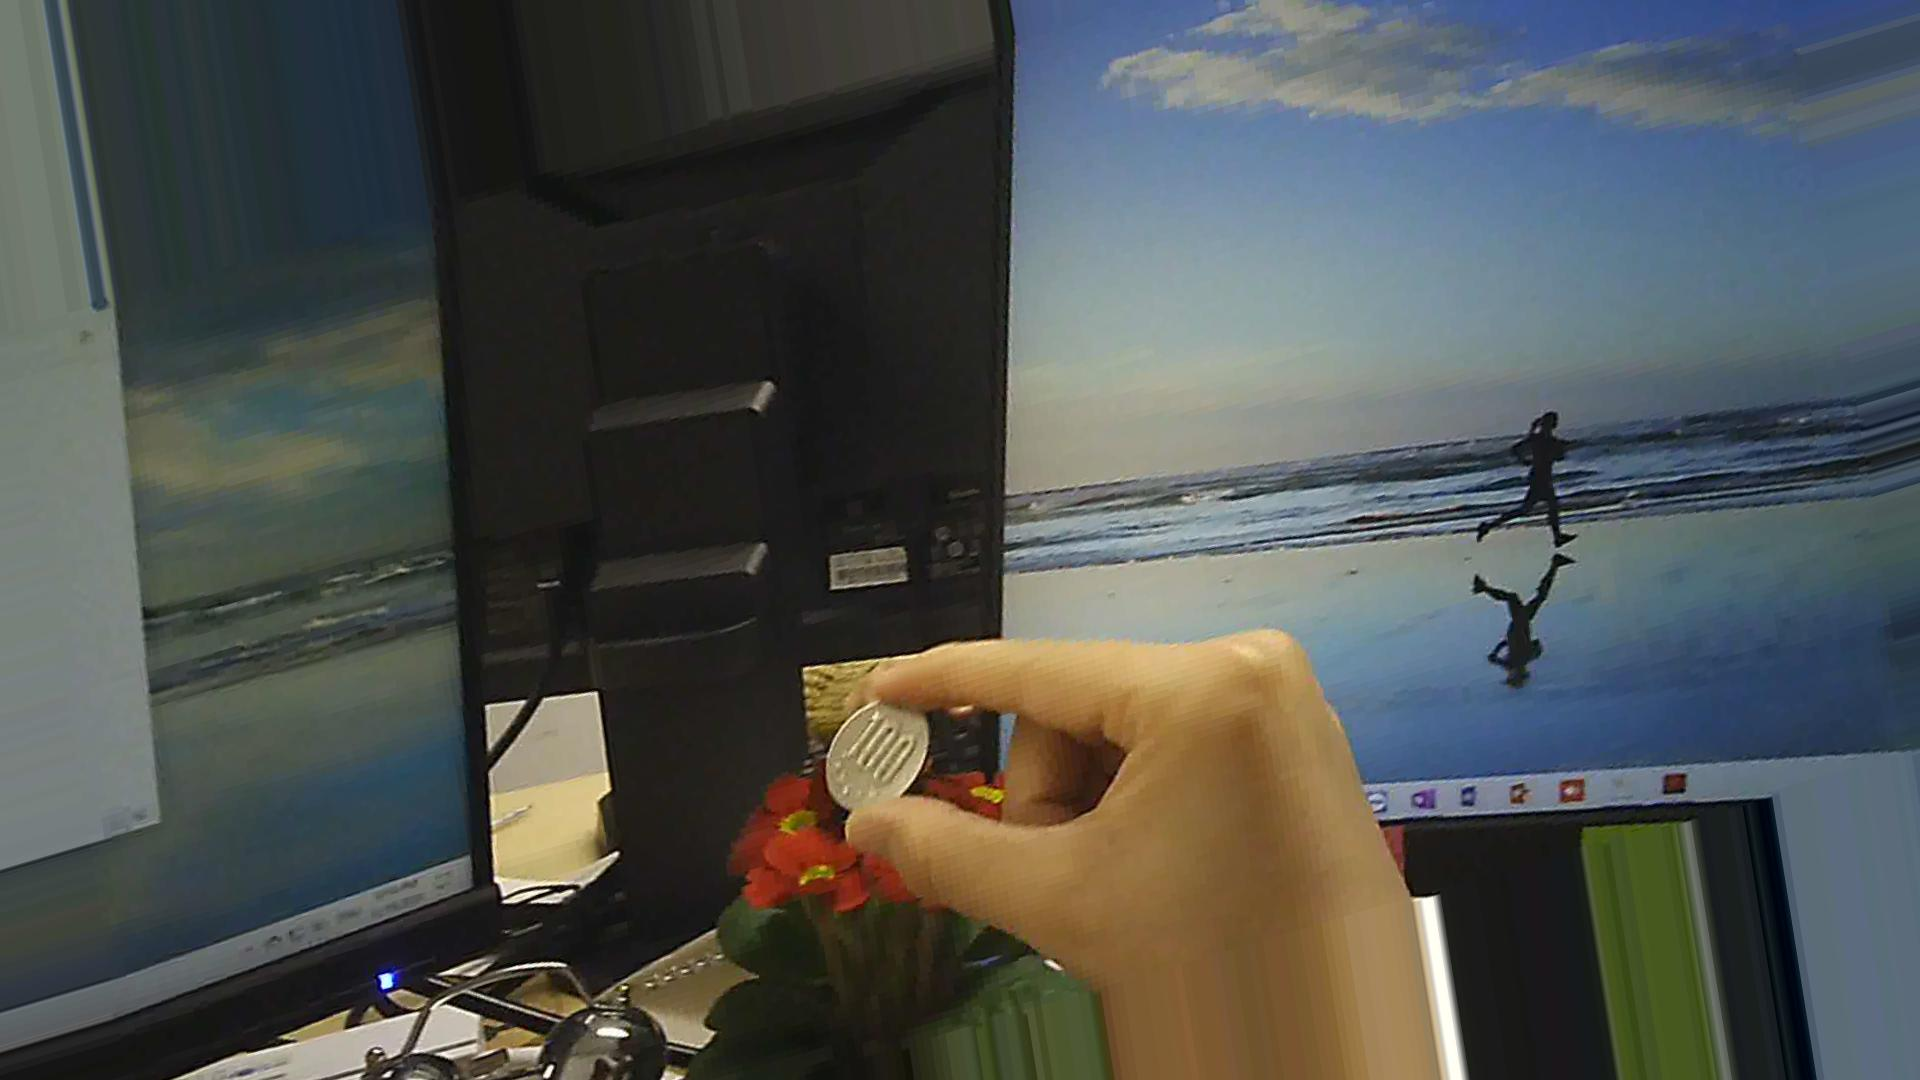100 Yen: (811, 698, 943, 806)
